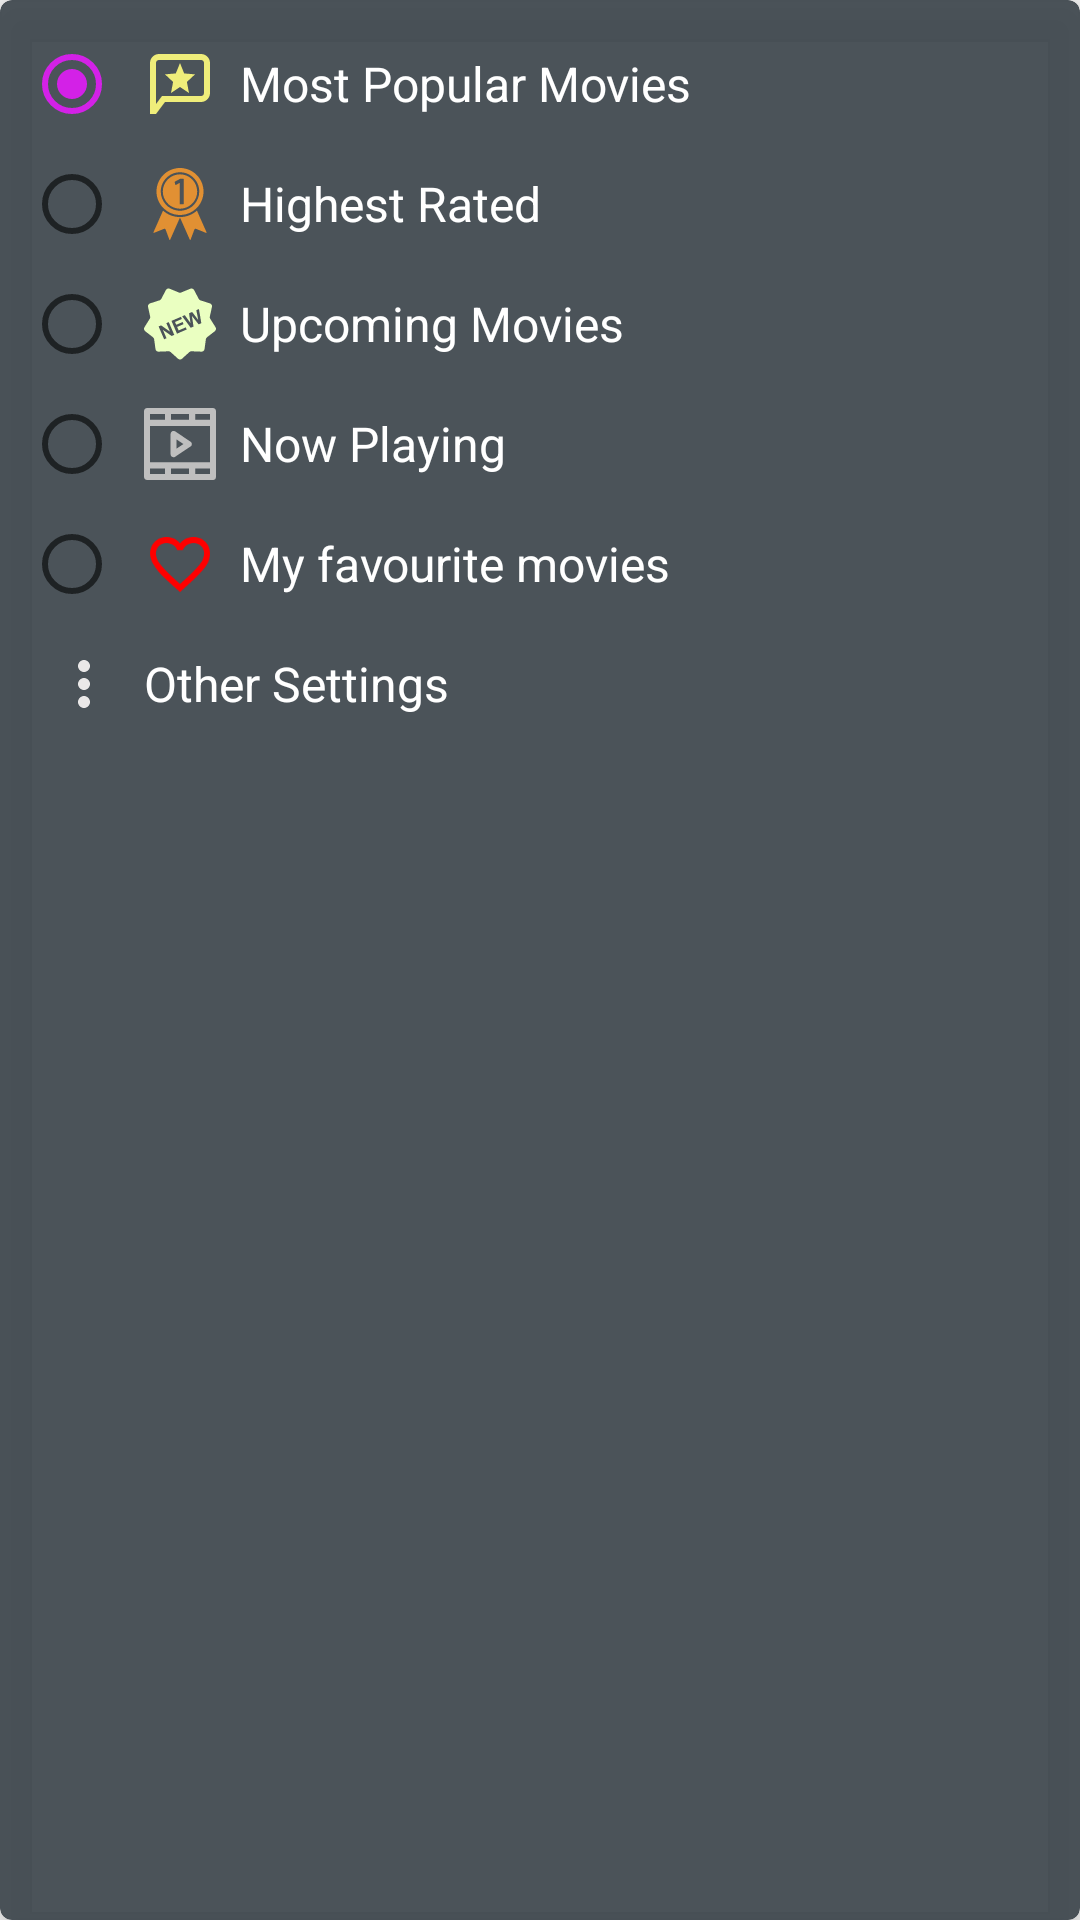

Icons on this 1080w x 1920h Android screen, each with its box as (x1, y1, x2, y2):
Options Icon: (78, 660, 90, 708)
